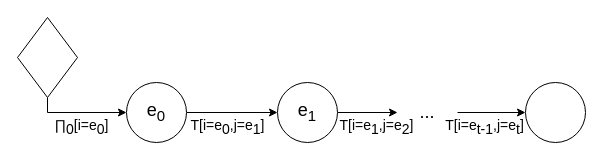
Some shapes in this 603 by 160 pixel diagram are drawn without their labels. Each missing label, with the centre of its shape:
"e t" goes at [555,112].
"Início" goes at [47,57].
